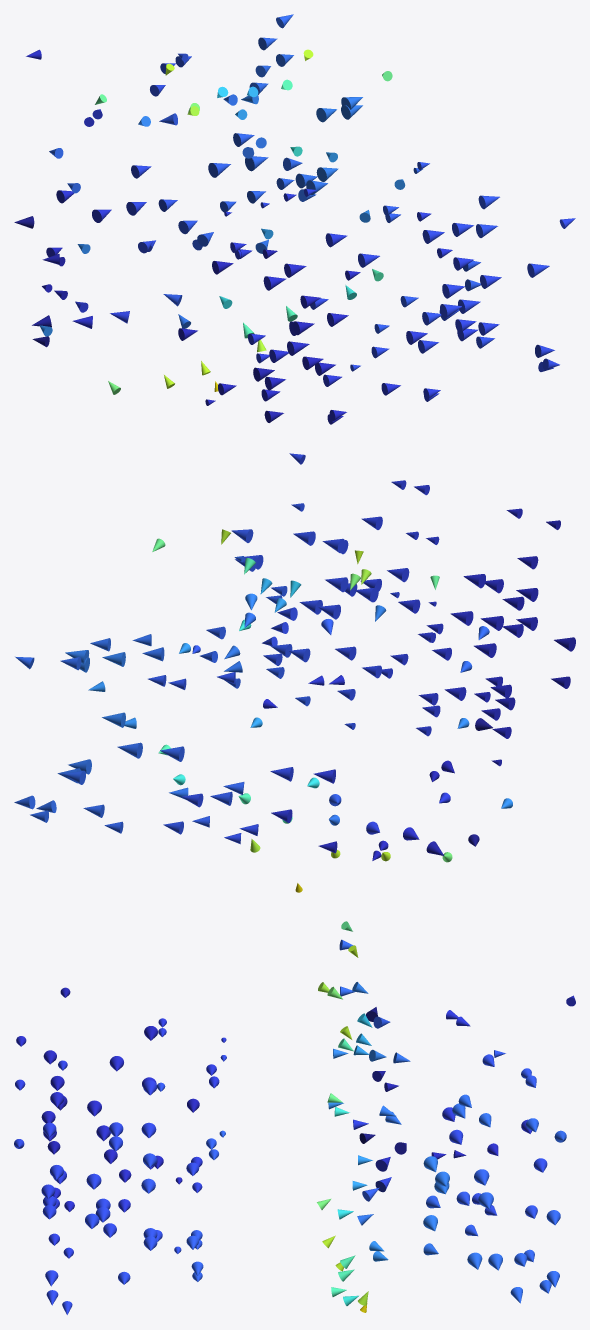
The model's file is LineasCorrienteN2-H2O_mh2-1.38_V-1.1.glb.
3 views of the same model, one above another, from view 1: azimuth 30°, elevation 25°; view 2: azimuth 150°, elevation 25°; view 3: azimuth 270°, elevation 25° (orthographic). The views are drawn at different scales.
Bounding box in the file's own units: 0.000968 × 0.000809 × 0.00121.
2 materials, 2 textured.
